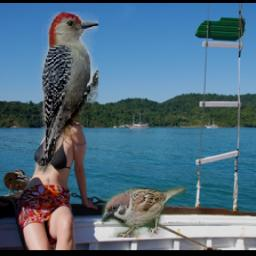Sparrow: (102, 187, 186, 239)
Woodpecker: (32, 13, 99, 176)
